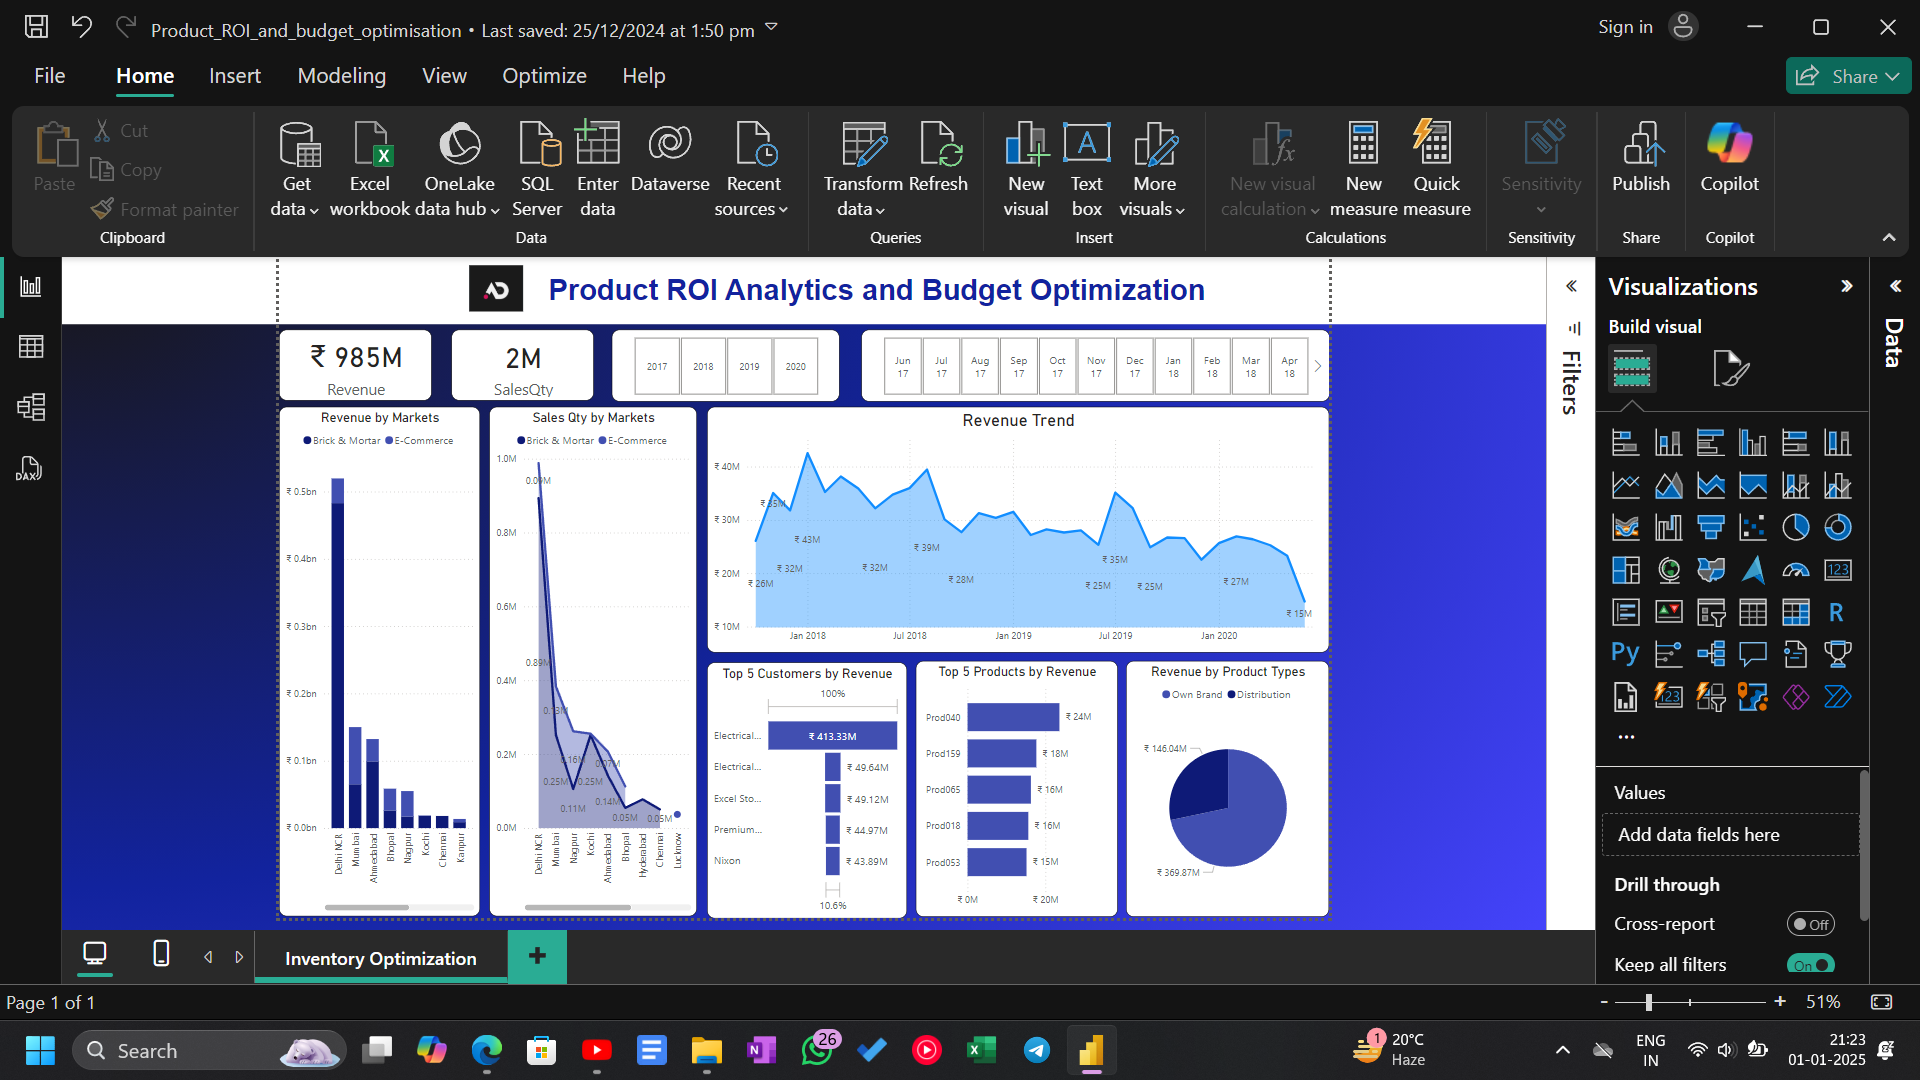

What the dashboard file says about the page in this screenshot:
{"tool":"powerbi","page":{"name":"ROI Performance","canvas":[1350,850],"ordinal":0},"visuals":[{"type":"card","fields":{"Values":["BaseMeasures.Revenue"]},"box":[0,93.8,196.3,90.9],"z":0},{"type":"card","fields":{"Values":["BaseMeasures.SalesQty"]},"box":[220.9,93.8,183.3,90.9],"z":1000},{"type":"lineStackedColumnComboChart","title":"Revenue by Markets","fields":{"Category":["sales markets.markets_name"],"Y":["BaseMeasures.Revenue"],"Series":["sales customers.customer_type"]},"box":[0,193.4,258.4,655.4],"z":2000},{"type":"slicer","fields":{"Values":["sales date.year"]},"box":[428.8,92.4,293.1,92.4],"z":3000},{"type":"slicer","fields":{"Values":["sales date.cy_date"]},"box":[747.8,92.4,602,92.4],"z":4000},{"type":"stackedAreaChart","title":"Revenue Trend","fields":{"Category":["sales date.cy_date.Variation.Date Hierarchy.Year","sales date.cy_date.Variation.Date Hierarchy.Quarter","sales date.cy_date.Variation.Date Hierarchy.Month","sales date.cy_date.Variation.Date Hierarchy.Day"],"Y":["BaseMeasures.Revenue"]},"box":[550,193.4,799.8,316.2],"z":5000},{"type":"stackedAreaChart","title":"Sales Qty by Markets","fields":{"Category":["sales markets.markets_name"],"Y":["BaseMeasures.SalesQty"],"Series":["sales customers.customer_type"]},"box":[270,193.4,267.1,655.4],"z":6000},{"type":"funnel","title":"Top 5 Customers by Revenue","fields":{"Category":["sales customers.custmer_name"],"Y":["BaseMeasures.Revenue"]},"box":[550,521.1,257,329.1],"z":7000},{"type":"barChart","title":"Top 5 Products by Revenue","fields":{"Category":["sales products.product_code"],"Y":["BaseMeasures.Revenue"]},"box":[818.5,519.7,259.9,329.1],"z":8000},{"type":"textbox","box":[320,16,896,64],"z":9000},{"type":"pieChart","title":"Revenue by Product Types","fields":{"Y":["BaseMeasures.Revenue"],"Category":["sales products.product_type"]},"box":[1088.5,519.7,261.3,329.1],"z":11000},{"type":"image","box":[240,0,80,80],"z":16001}]}

Visuals, with their boxes on the page's 1350x850 design canvas (x1, y1, x2, y2). These are canvas units, not pixel positions in the 1920x1080 screenshot, which may show the page scaled, cropped or inside an application window:
card - BaseMeasures.Revenue: left=0, top=94, right=196, bottom=185
card - BaseMeasures.SalesQty: left=221, top=94, right=404, bottom=185
"Revenue by Markets" lineStackedColumnComboChart: left=0, top=193, right=258, bottom=849
slicer - sales date.year: left=429, top=92, right=722, bottom=185
slicer - sales date.cy_date: left=748, top=92, right=1350, bottom=185
"Revenue Trend" stackedAreaChart: left=550, top=193, right=1350, bottom=510
"Sales Qty by Markets" stackedAreaChart: left=270, top=193, right=537, bottom=849
"Top 5 Customers by Revenue" funnel: left=550, top=521, right=807, bottom=850
"Top 5 Products by Revenue" barChart: left=818, top=520, right=1078, bottom=849
textbox: left=320, top=16, right=1216, bottom=80
"Revenue by Product Types" pieChart: left=1088, top=520, right=1350, bottom=849
image: left=240, top=0, right=320, bottom=80
